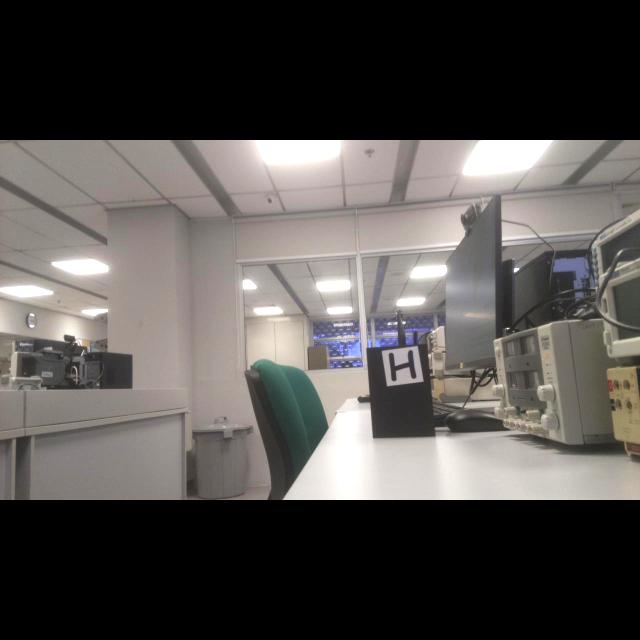H: (389, 350, 417, 382)
